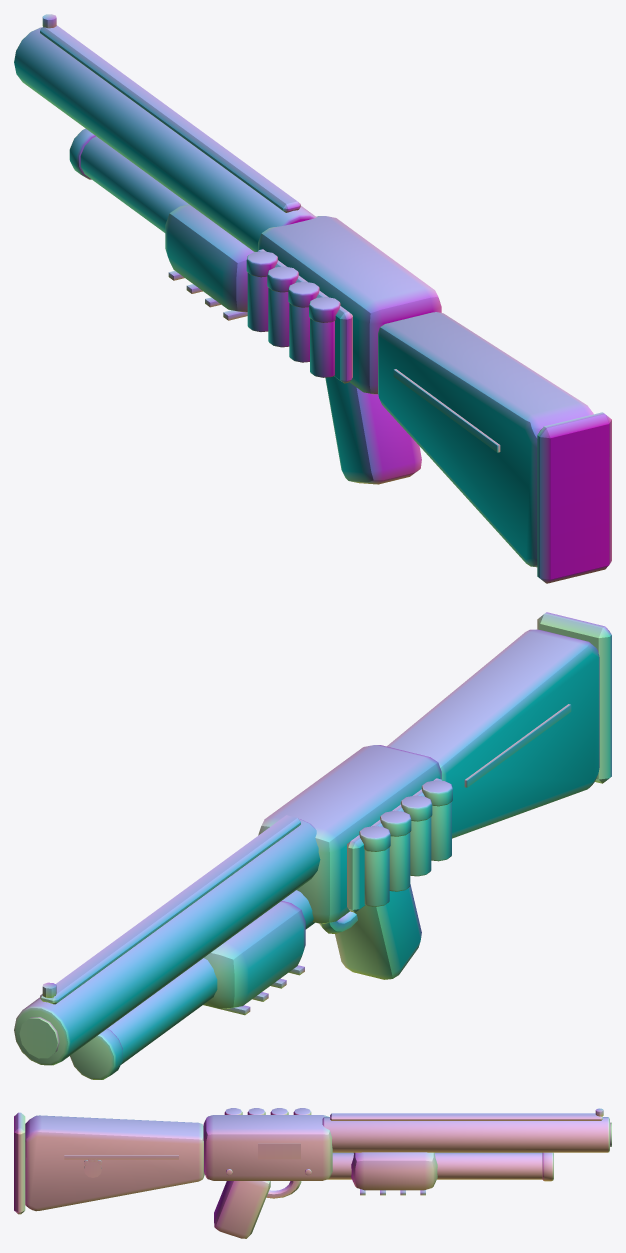
The model's file is wpn_shotgun.glb.
3 views of the same model, one above another, from view 1: azimuth 30°, elevation 25°; view 2: azimuth 150°, elevation 25°; view 3: azimuth 270°, elevation 25° (orthographic). The views are drawn at different scales.
Parts seen in each view (by area): view 1: wpn_shotgun_mesh; view 2: wpn_shotgun_mesh; view 3: wpn_shotgun_mesh.
Part boxes in pixels (x1,y1,x2,y2): wpn_shotgun_mesh: (14,14,611,583); wpn_shotgun_mesh: (14,612,611,1079); wpn_shotgun_mesh: (14,1108,611,1238).
Size of the model in its own units: 0.0503 by 0.0952 by 0.4165.
